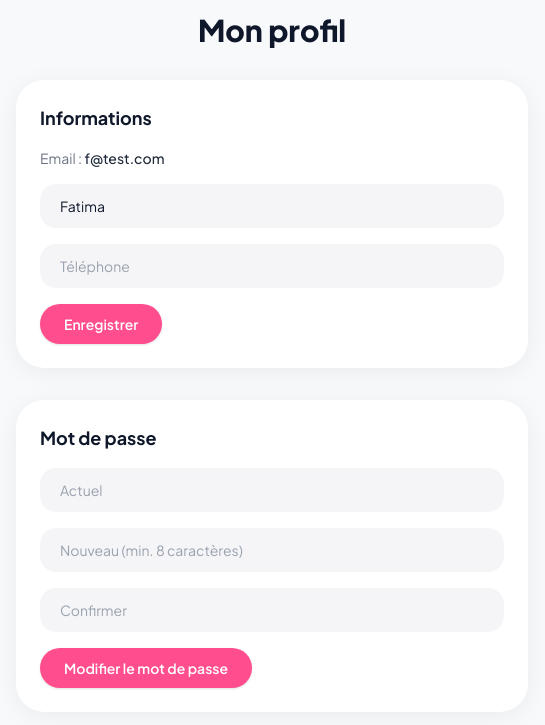
Test: ProfilePage › met à jour le profil
The width and height of the screenshot is (545, 725).
Expected: the text "f@test.com" is shown, [84,149,164,167]
Replace the text in the field with placeholder "Nom" with "Fatima C" at [272, 206], box [40,184,504,228]
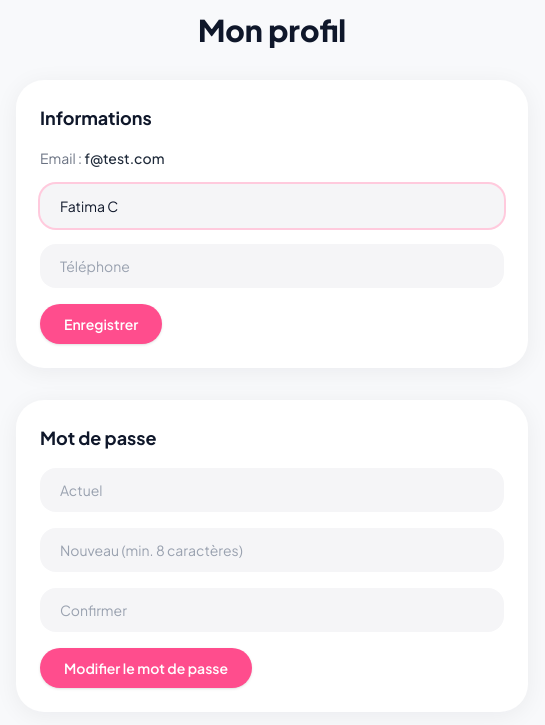
Type "0600" into the field with placeholder "Téléphone" at [272, 266], box [40,244,504,288]
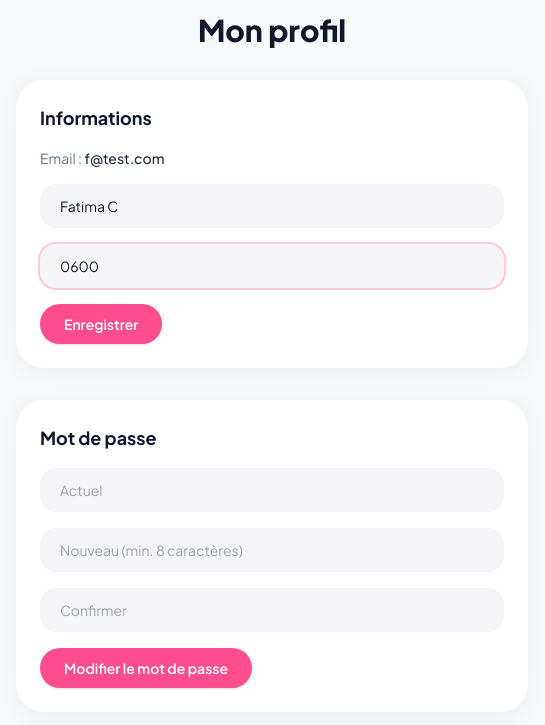
Click the button "Enregistrer" at [101, 324], box [40,304,162,344]
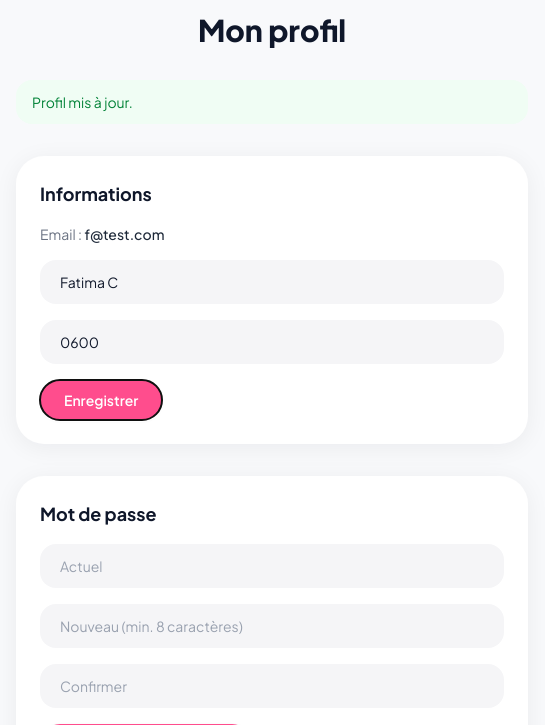
Now the text "Profil mis à jour." is shown, box [16,80,528,124]
